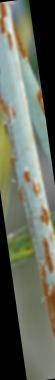Wheat: (15, 164, 55, 333), (0, 1, 28, 57)
